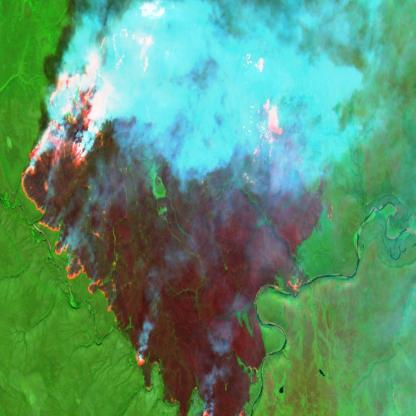fire: (14, 0, 335, 416)
